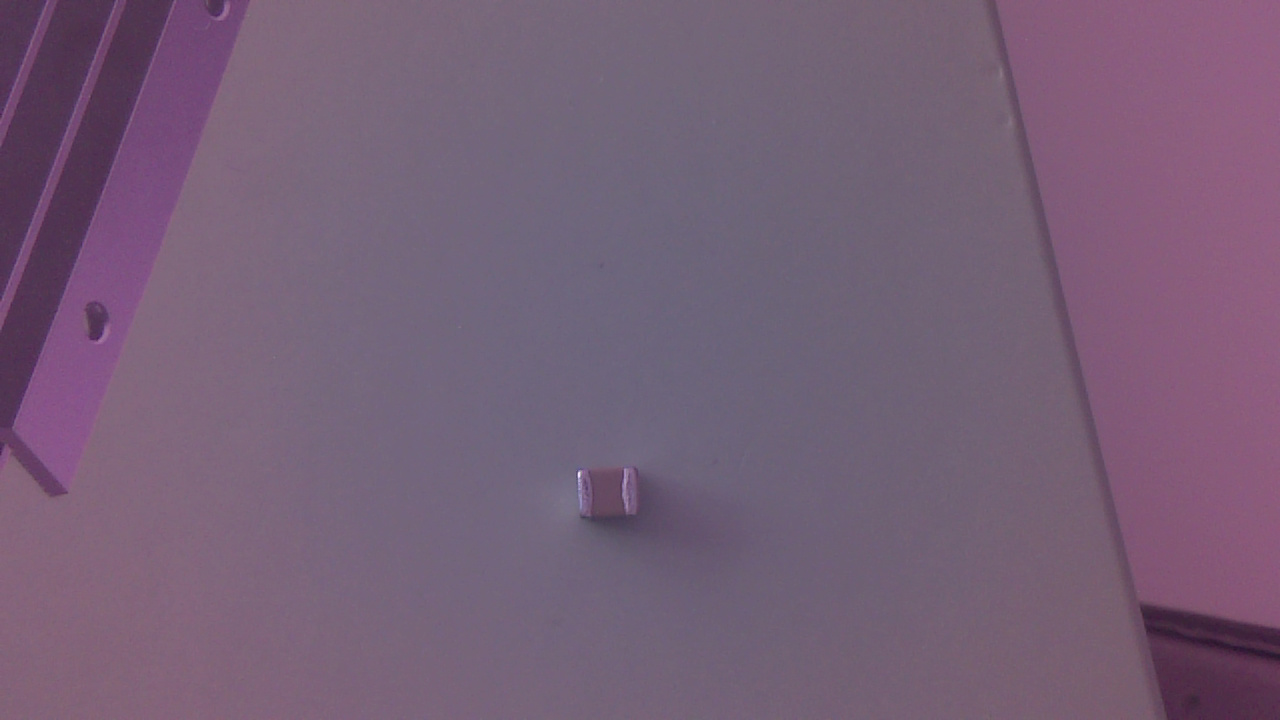Condensator: (575, 464, 650, 534)
